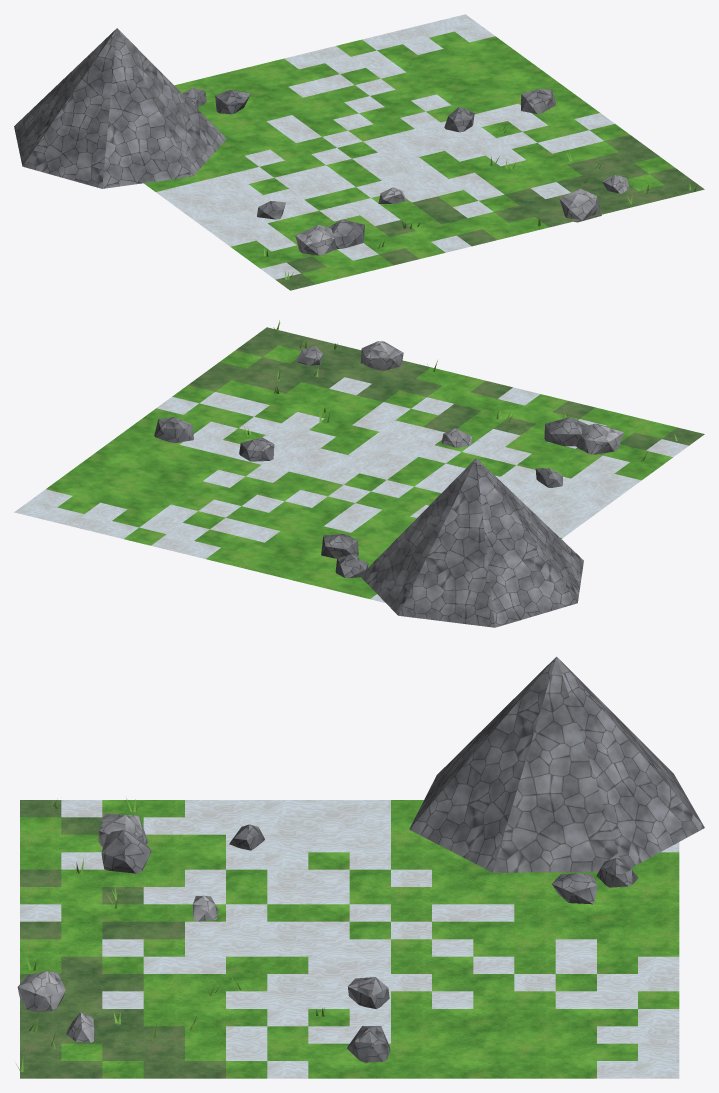
Rendered from chunk_10_1.glb.
3 renders of one model, top to bottom at view 1: azimuth 30°, elevation 25°; view 2: azimuth 150°, elevation 25°; view 3: azimuth 270°, elevation 25°, orthographic. The views are drawn at different scales.
Parts seen in each view (by area): view 1: chunk_10_1; view 2: chunk_10_1; view 3: chunk_10_1.
Part boxes in pixels (x1=…): chunk_10_1: x1=14, y1=14, x2=704, y2=290; chunk_10_1: x1=14, y1=320, x2=704, y2=627; chunk_10_1: x1=16, y1=656, x2=704, y2=1078.
Size of the model in its own units: 18.85 by 4.7 by 16.77.
Materials: 7 (6 with a texture image).
